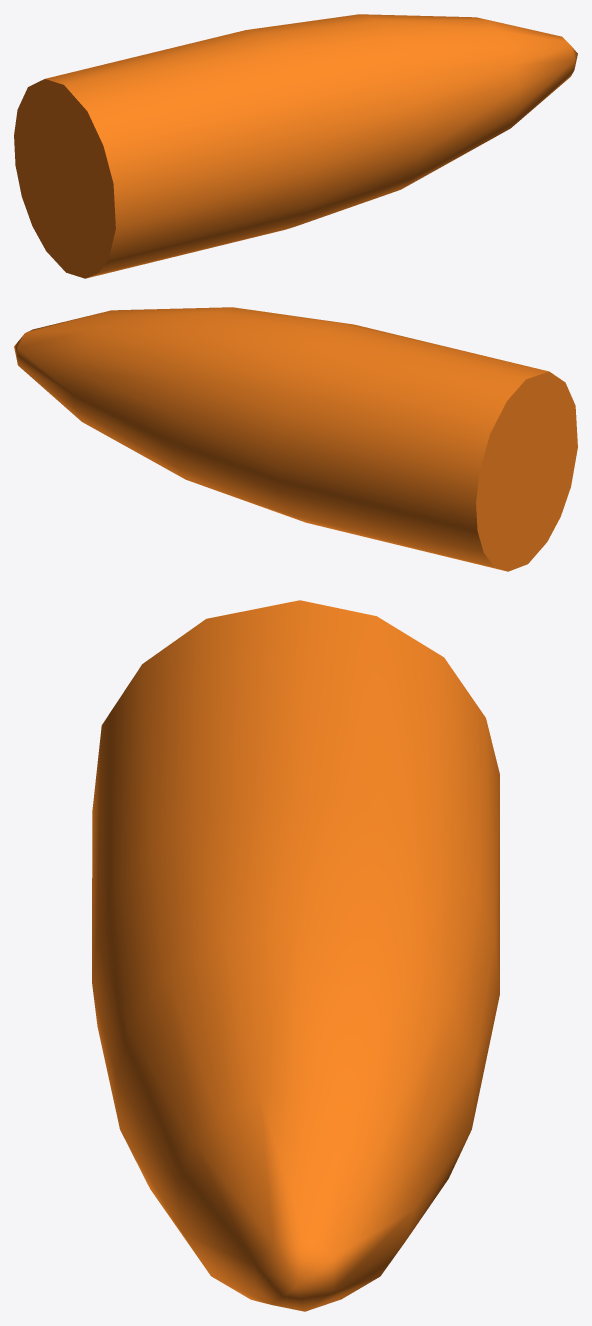
File: bala_draconico.obj
3 views of the same model, one above another, from view 1: azimuth 30°, elevation 25°; view 2: azimuth 150°, elevation 25°; view 3: azimuth 270°, elevation 25° (orthographic). The views are drawn at different scales.
Bounding box in the file's own units: 0.092 × 0.0319 × 0.0317.
